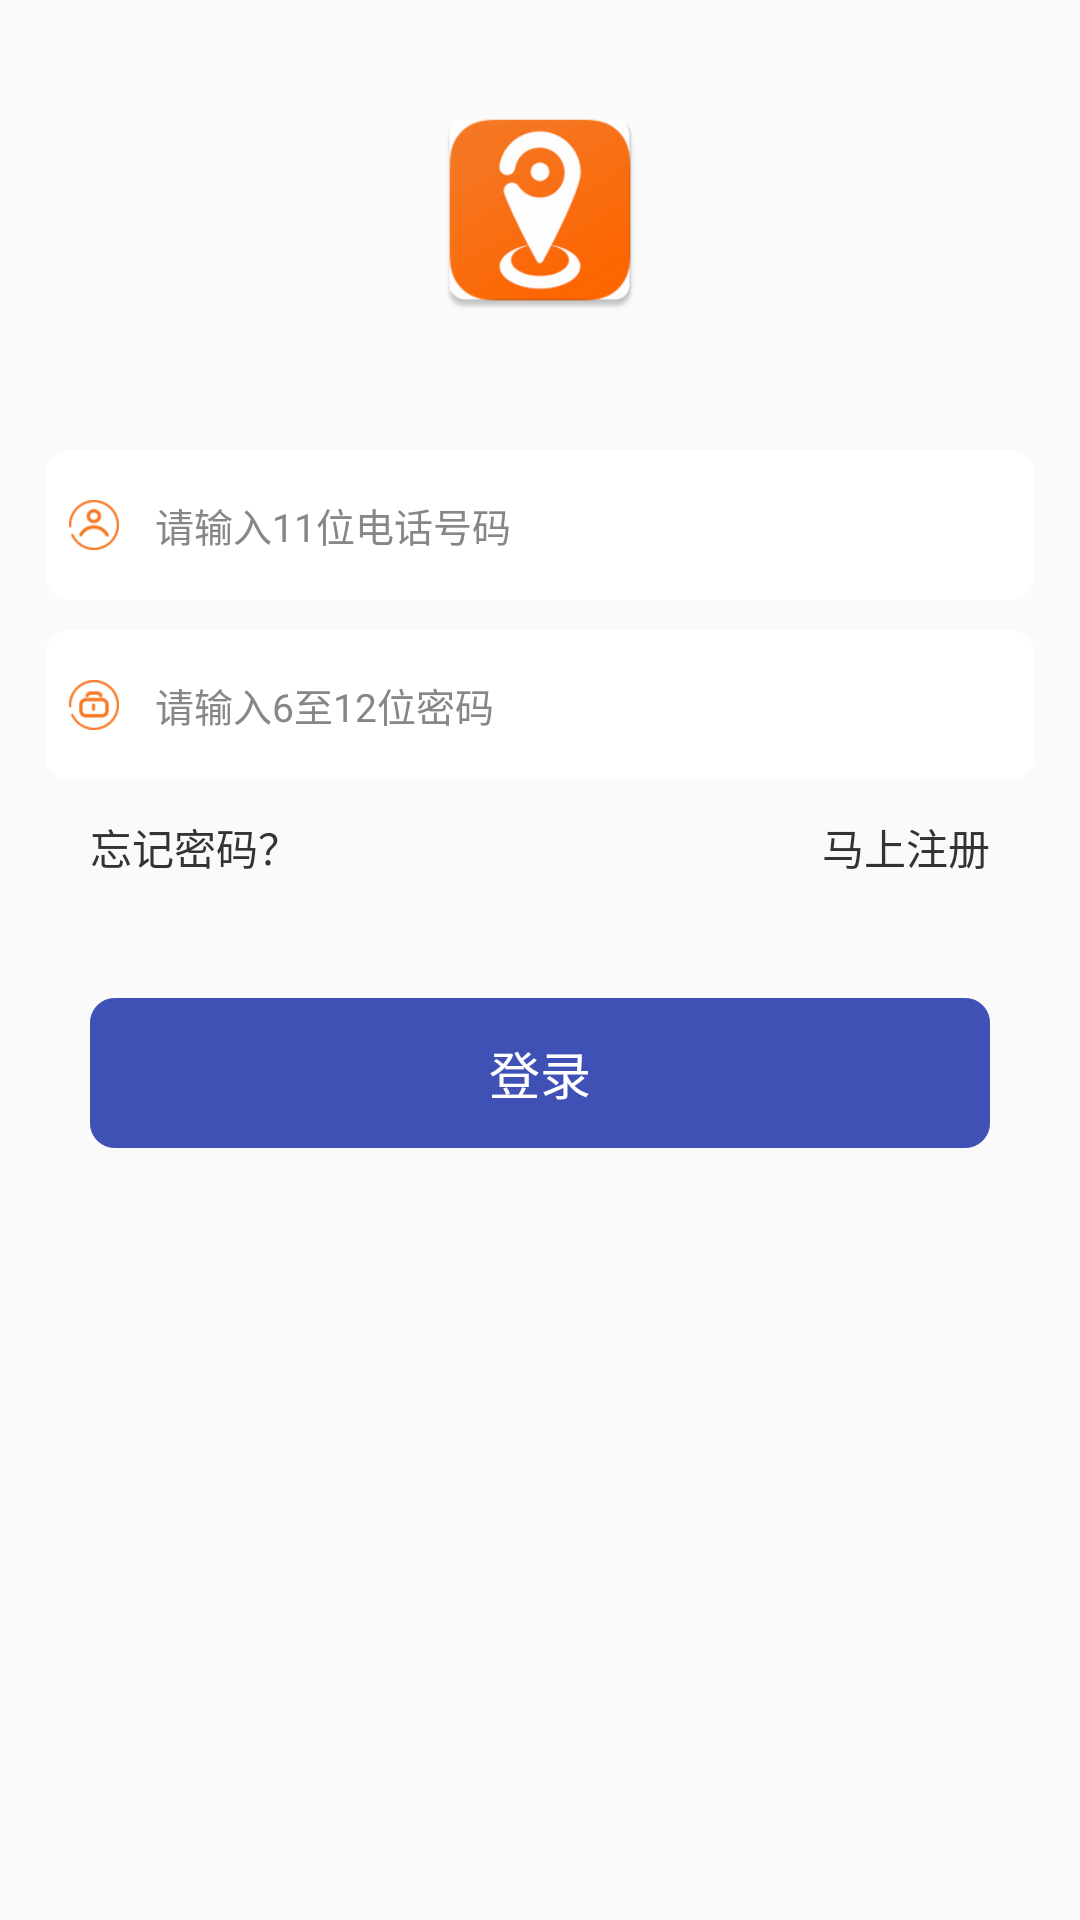

Named icons in this screenshot (1080px×1920px) and their bounding boxes, (x1, y1, x2, y2):
pwd leftdraw: (69, 680, 119, 730)
user leftdraw: (69, 500, 119, 550)
